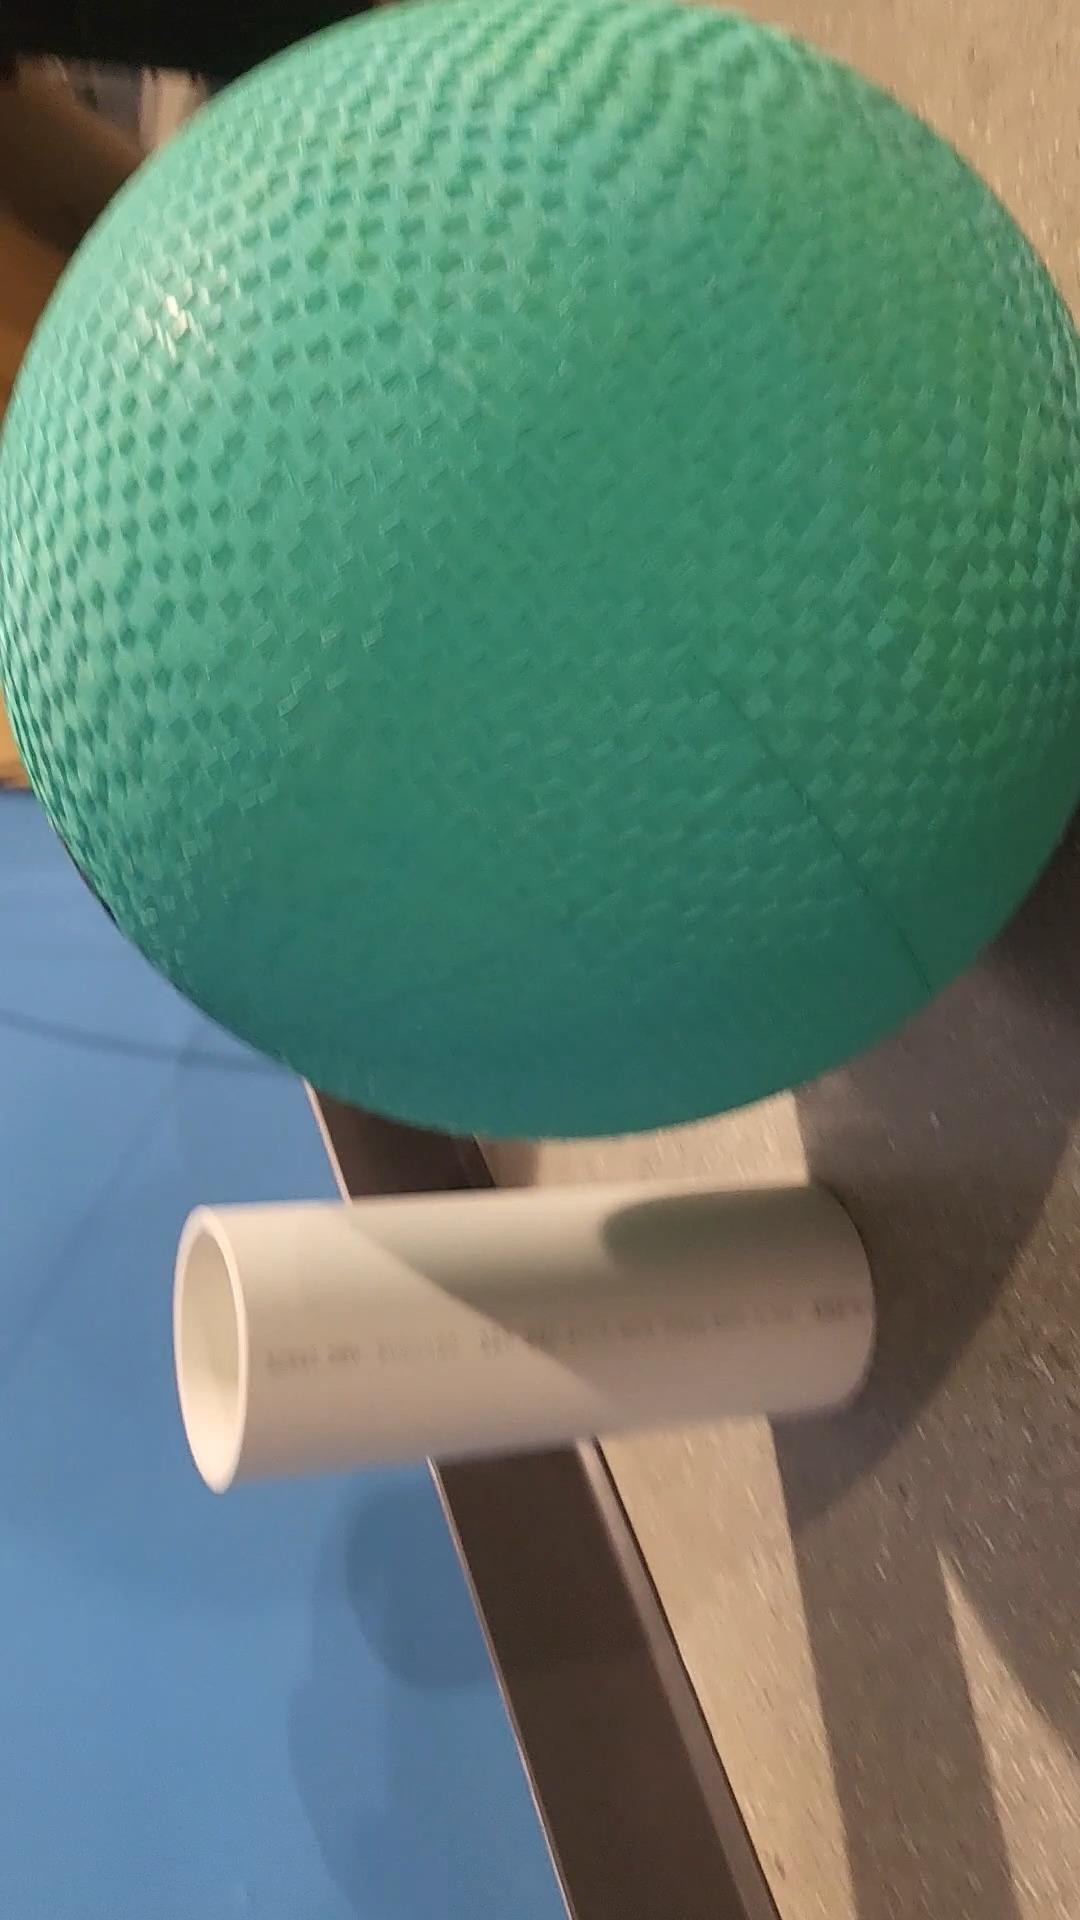algae: (0, 0, 1080, 1150)
coral: (146, 1175, 884, 1490)
